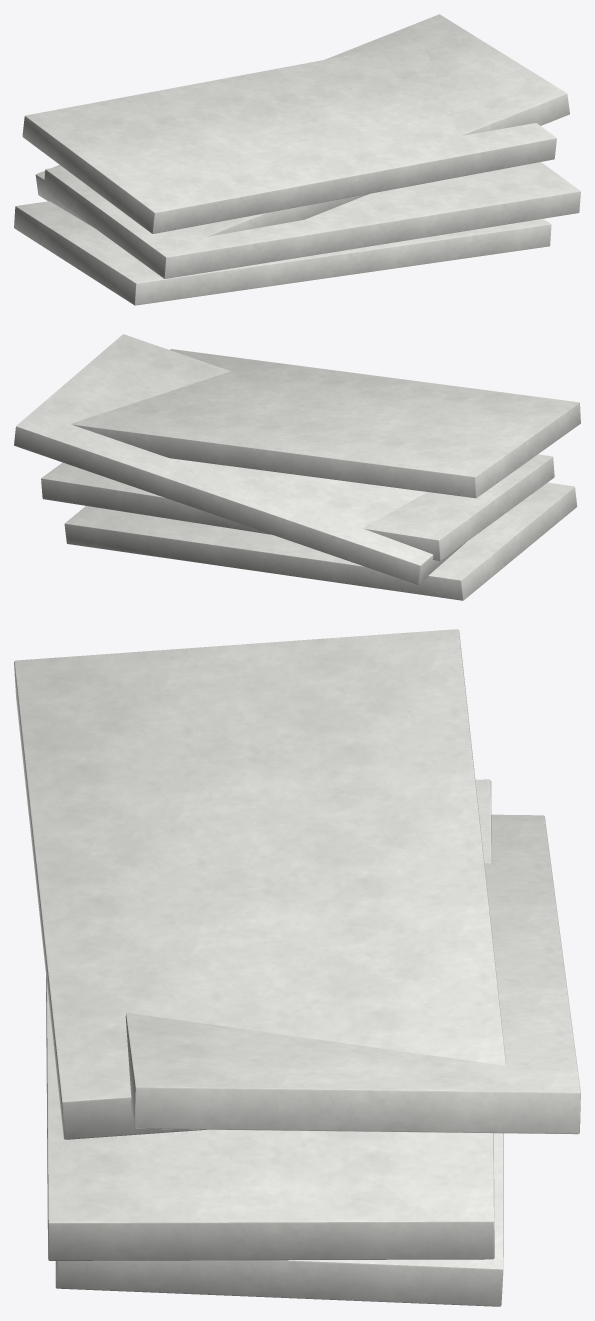
File: IMP-ISO-003_anim.glb
3 views of the same model, one above another, from view 1: azimuth 30°, elevation 25°; view 2: azimuth 150°, elevation 25°; view 3: azimuth 270°, elevation 25° (orthographic). The views are drawn at different scales.
Parts seen in each view (by area): view 1: IMP-ISO-003_anim3, IMP-ISO-003_anim1, IMP-ISO-003_anim0, IMP-ISO-003_anim2; view 2: IMP-ISO-003_anim3, IMP-ISO-003_anim2, IMP-ISO-003_anim0, IMP-ISO-003_anim1; view 3: IMP-ISO-003_anim3, IMP-ISO-003_anim1, IMP-ISO-003_anim2, IMP-ISO-003_anim0.
Part boxes in pixels (bbox=[...]): IMP-ISO-003_anim3: bbox=[22, 41, 556, 233]; IMP-ISO-003_anim1: bbox=[43, 162, 580, 278]; IMP-ISO-003_anim0: bbox=[14, 201, 551, 305]; IMP-ISO-003_anim2: bbox=[35, 14, 569, 236]; IMP-ISO-003_anim3: bbox=[71, 349, 580, 498]; IMP-ISO-003_anim2: bbox=[14, 334, 464, 584]; IMP-ISO-003_anim0: bbox=[64, 482, 577, 600]; IMP-ISO-003_anim1: bbox=[41, 454, 554, 560]; IMP-ISO-003_anim3: bbox=[14, 629, 505, 1139]; IMP-ISO-003_anim1: bbox=[46, 779, 494, 1260]; IMP-ISO-003_anim2: bbox=[125, 814, 580, 1134]; IMP-ISO-003_anim0: bbox=[55, 1133, 503, 1306].
Size of the model in its own units: 1.1 by 0.3737 by 0.635.
Materials: 1 (1 with a texture image).
